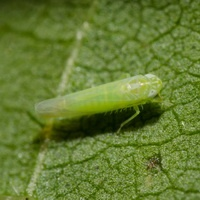insect: (35, 74, 161, 131)
